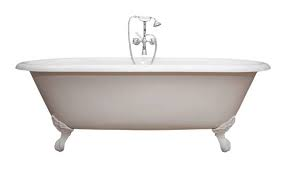bathub: (13, 47, 271, 159)
